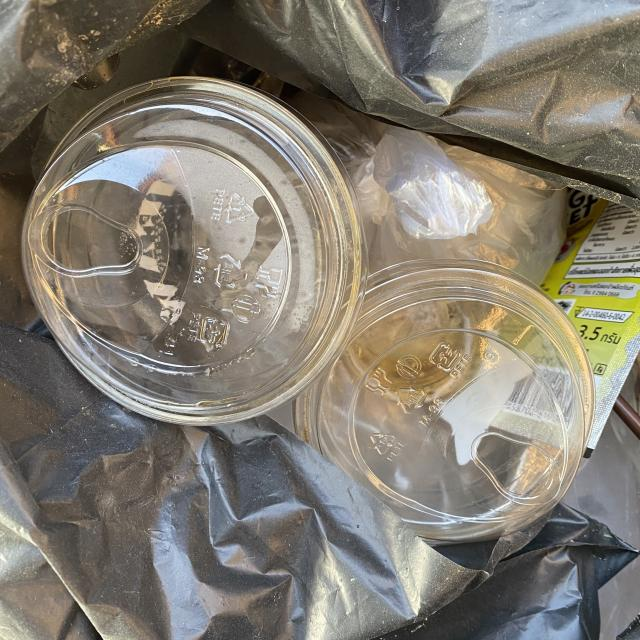Single-layer Plastic: (0, 322, 634, 640), (290, 91, 566, 285)
